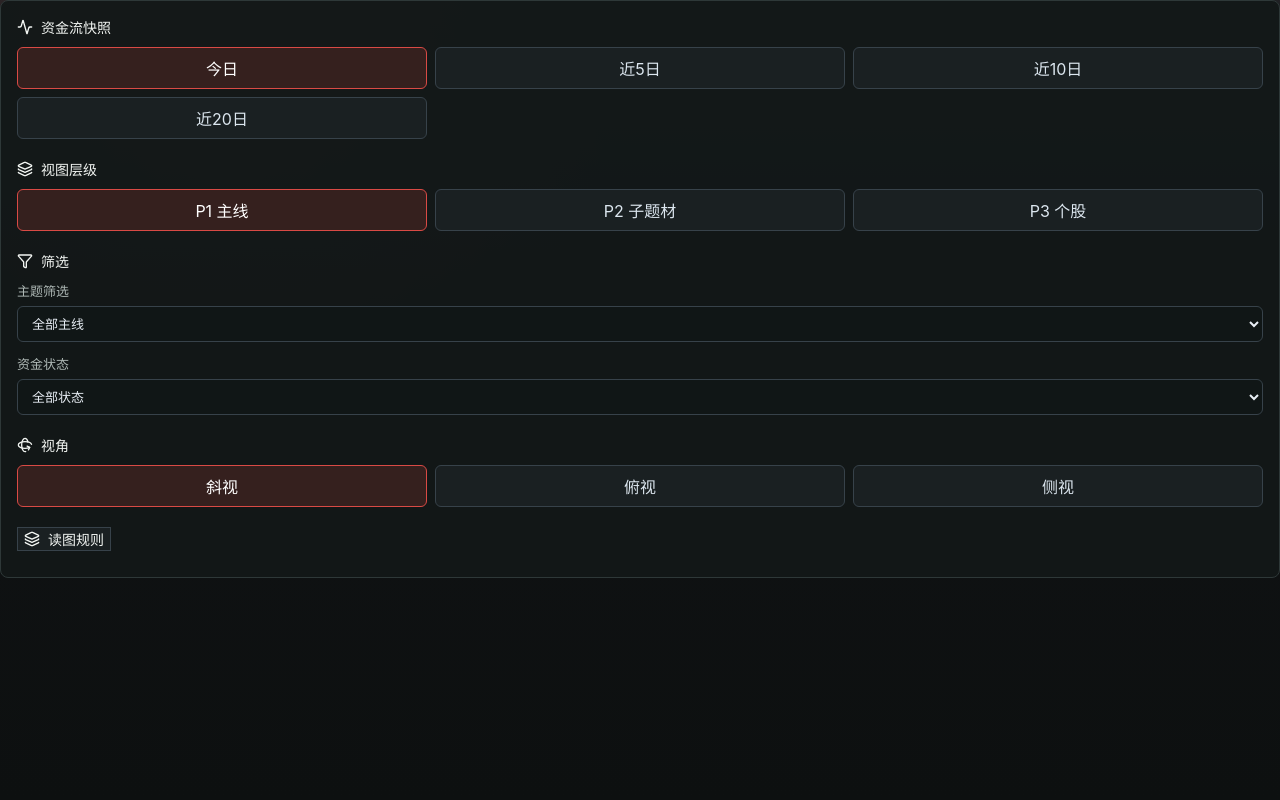
Test: ControlsPanel › collapses the read-guide notes by default and expands on click
Expected: the text "二维位置表达关系" is not shown
Click the button "读图规则" at x=64, y=539, box [17, 527, 111, 551]
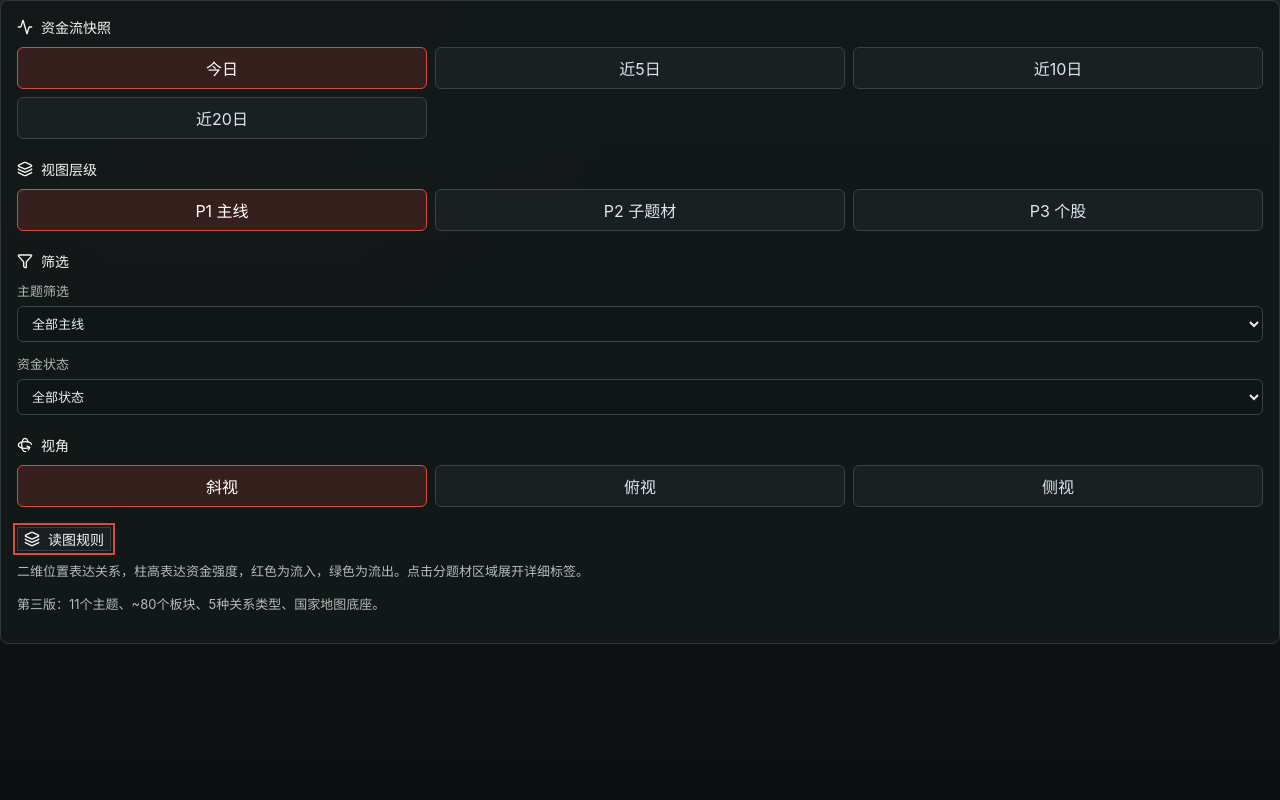
Now the text "二维位置表达关系，柱高表达资金强度，红色为流入，绿色为流出。点击分题材区域展开详细标签。" is shown, box [17, 563, 589, 579]
